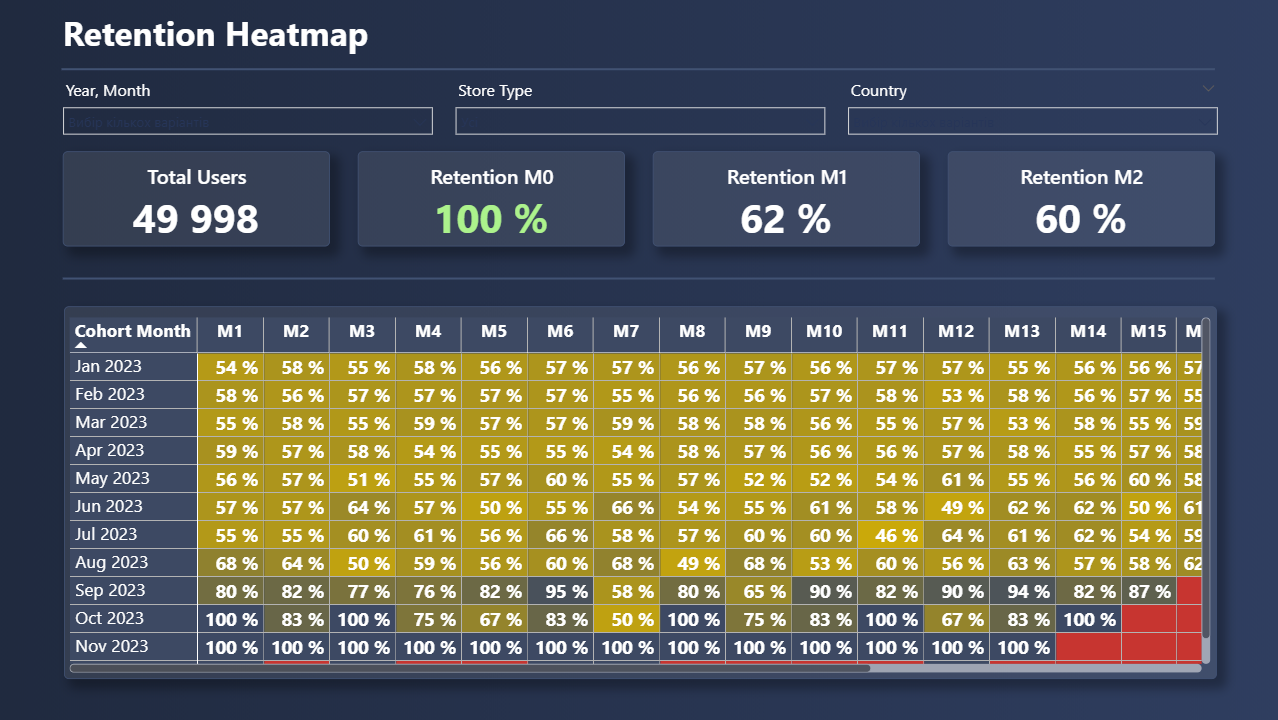

What the dashboard file says about the page in this screenshot:
{"tool":"powerbi","page":{"name":"Retention by Cohort","canvas":[1280,720],"ordinal":0},"visuals":[{"type":"group","id":"g1","title":"Группа 2","box":[54.3,73.6,1173.9,61.5],"z":0},{"type":"slicer","fields":{"Values":["Calendar.Year","Calendar.Month"]},"box":[54.3,73.6,389.8,61.1],"z":0,"group":"g1"},{"type":"card","title":"Total Users","fields":{"Values":["customer_metrics.Total Users"]},"box":[63.9,150.8,266.9,95],"z":0,"group":"g3"},{"type":"shape","title":"Retention Heatmap","box":[63.5,0,1153,65.1],"z":1000},{"type":"slicer","fields":{"Values":["cohort_metrics.country"]},"box":[838.7,73.6,389.8,61.1],"z":1000,"group":"g1"},{"type":"card","title":"Retention M0","fields":{"Values":["cohort_metrics.Retention M0"]},"box":[359,150.8,266.9,95.3],"z":1000,"group":"g3"},{"type":"slicer","fields":{"Values":["cohort_metrics.store_type"]},"box":[446.5,73.6,389.8,61.1],"z":2000,"group":"g1"},{"type":"card","title":"Retention M1","fields":{"Values":["cohort_metrics.Retention M1"]},"box":[654,150.8,266.9,95.3],"z":2000,"group":"g3"},{"type":"group","id":"g2","title":"Група 1","box":[65,306.2,1152.5,372.5],"z":2000},{"type":"card","title":"Retention M2","fields":{"Values":["cohort_metrics.Retention M2"]},"box":[949.1,150.8,266.9,95.3],"z":3000,"group":"g3"},{"type":"shape","box":[63.9,272.7,1152.2,12.1],"z":3000},{"type":"shape","box":[62.7,65.1,1153.4,8.4],"z":5000},{"type":"group","id":"g3","title":"Група 2","box":[63.9,150.8,1152.2,95.3],"z":6000},{"type":"pivotTable","title":"Retention Rate by Cohort","fields":{"Values":["Avg(cohort_metrics.retention_rate)"],"Columns":["cohort_metrics.MonthLabel"],"Rows":["Calendar.MonthYear1"]},"box":[65,306.2,1152.5,372.5],"z":6000,"group":"g2"}]}

Visuals, with their boxes in screenshot pixels (x1, y1, x2, y2), scaled from the page's 1280x720 canvas onto the 1278x720 screenshot:
"Группа 2" group: bbox(54, 74, 1226, 135)
slicer - Calendar.Year x Calendar.Month: bbox(54, 74, 443, 135)
"Total Users" card: bbox(64, 151, 330, 246)
"Retention Heatmap" shape: bbox(63, 0, 1215, 65)
slicer - cohort_metrics.country: bbox(837, 74, 1227, 135)
"Retention M0" card: bbox(358, 151, 625, 246)
slicer - cohort_metrics.store_type: bbox(446, 74, 835, 135)
"Retention M1" card: bbox(653, 151, 919, 246)
"Група 1" group: bbox(65, 306, 1216, 679)
"Retention M2" card: bbox(948, 151, 1214, 246)
shape: bbox(64, 273, 1214, 285)
shape: bbox(63, 65, 1214, 74)
"Група 2" group: bbox(64, 151, 1214, 246)
"Retention Rate by Cohort" pivotTable: bbox(65, 306, 1216, 679)
